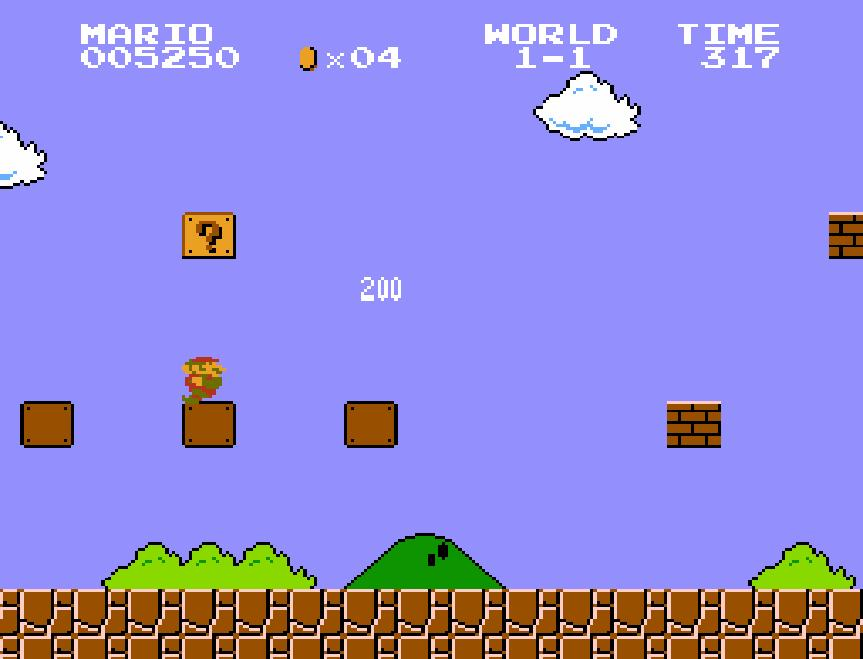little_mario: (176, 355, 234, 404)
